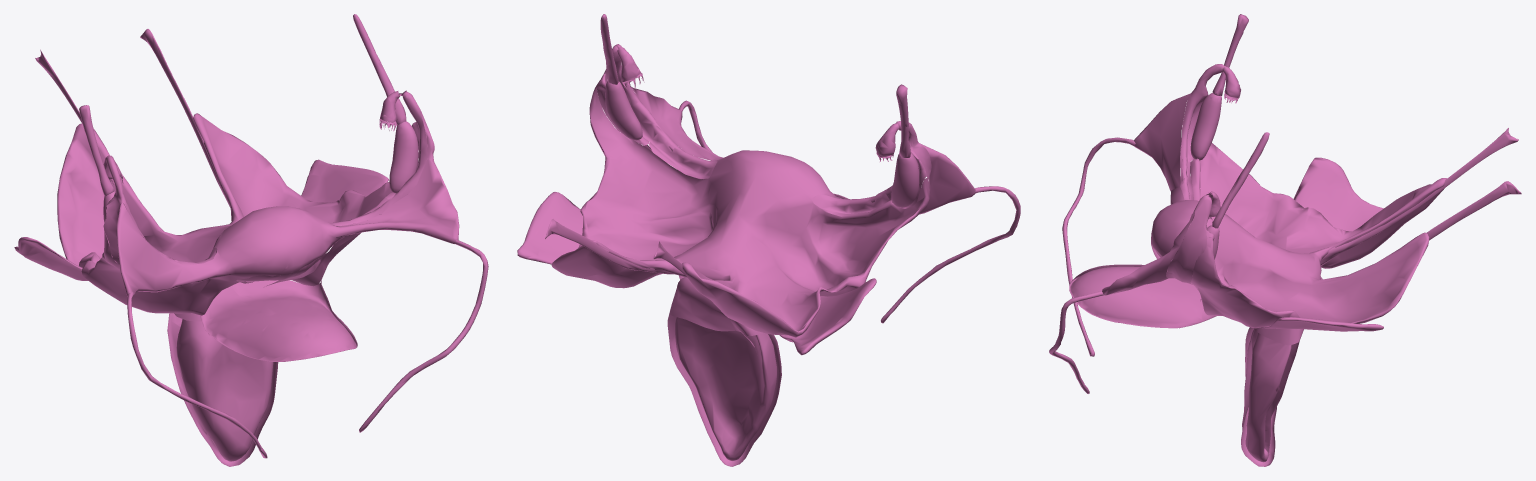
Rendered from reproductive.glb.
3 views of the same model, side by side, from view 1: azimuth 30°, elevation 25°; view 2: azimuth 150°, elevation 25°; view 3: azimuth 270°, elevation 25° (orthographic). The views are drawn at different scales.
Parts seen in each view (by area): view 1: HRA_broad_ligament, HRA_uterovesical_pouch, HRA_vagina, HRA_left_cardinal_ligament_of_uterus, HRA_mesosalpinx_L, HRA_right_round_ligament_of_uterus, HRA_left_ovary, HRA_mesosalpinx_R, HRA_right_cardinal_ligament_of_uterus, HRA_left_round_ligament_of_uterus, HRA_left_uterosacral_ligament, HRA_suspensory_ligament_of_ovary_L (+1 smaller); view 2: HRA_broad_ligament, HRA_vagina, HRA_left_cardinal_ligament_of_uterus, HRA_mesosalpinx_L, HRA_right_cardinal_ligament_of_uterus, HRA_cervicovaginal_junction, HRA_mesosalpinx_R, HRA_left_ovary, HRA_left_round_ligament_of_uterus, HRA_right_ovary, HRA_left_uterosacral_ligament, HRA_suspensory_ligament_of_ovary_R (+1 smaller); view 3: HRA_broad_ligament, HRA_uterovesical_pouch, HRA_vagina, HRA_right_cardinal_ligament_of_uterus, HRA_mesosalpinx_L, HRA_mesosalpinx_R, HRA_right_uterosacral_ligament, HRA_right_ovary, HRA_left_round_ligament_of_uterus, HRA_left_cardinal_ligament_of_uterus, HRA_left_uterosacral_ligament, HRA_suspensory_ligament_of_ovary_L (+3 smaller).
Part boxes in pixels (left/top/right/bottom): HRA_broad_ligament: left=57, top=109, right=459, bottom=315; HRA_uterovesical_pouch: left=200, top=257, right=357, bottom=361; HRA_vagina: left=167, top=313, right=278, bottom=466; HRA_left_cardinal_ligament_of_uterus: left=301, top=159, right=388, bottom=246; HRA_mesosalpinx_L: left=328, top=92, right=427, bottom=250; HRA_right_round_ligament_of_uterus: left=336, top=230, right=488, bottom=432; HRA_left_ovary: left=389, top=121, right=418, bottom=193; HRA_mesosalpinx_R: left=103, top=156, right=216, bottom=266; HRA_right_cardinal_ligament_of_uterus: left=14, top=237, right=88, bottom=280; HRA_left_round_ligament_of_uterus: left=127, top=286, right=267, bottom=458; HRA_left_uterosacral_ligament: left=140, top=29, right=230, bottom=207; HRA_suspensory_ligament_of_ovary_L: left=353, top=14, right=406, bottom=124; HRA_broad_ligament: left=551, top=64, right=975, bottom=337; HRA_vagina: left=667, top=314, right=781, bottom=466; HRA_left_cardinal_ligament_of_uterus: left=517, top=192, right=582, bottom=264; HRA_mesosalpinx_L: left=604, top=45, right=717, bottom=178; HRA_right_cardinal_ligament_of_uterus: left=779, top=278, right=876, bottom=355; HRA_cervicovaginal_junction: left=669, top=277, right=762, bottom=335; HRA_mesosalpinx_R: left=812, top=120, right=931, bottom=213; HRA_left_ovary: left=605, top=81, right=642, bottom=140; HRA_left_round_ligament_of_uterus: left=880, top=186, right=1020, bottom=323; HRA_right_ovary: left=891, top=153, right=919, bottom=207; HRA_left_uterosacral_ligament: left=545, top=219, right=673, bottom=274; HRA_suspensory_ligament_of_ovary_R: left=896, top=84, right=910, bottom=157; HRA_broad_ligament: left=1102, top=93, right=1446, bottom=328; HRA_uterovesical_pouch: left=1069, top=241, right=1216, bottom=328; HRA_vagina: left=1241, top=327, right=1299, bottom=466; HRA_right_cardinal_ligament_of_uterus: left=1293, top=157, right=1383, bottom=231; HRA_mesosalpinx_L: left=1166, top=196, right=1211, bottom=284; HRA_mesosalpinx_R: left=1180, top=64, right=1224, bottom=199; HRA_right_uterosacral_ligament: left=1320, top=128, right=1518, bottom=265; HRA_right_ovary: left=1190, top=93, right=1221, bottom=160; HRA_left_round_ligament_of_uterus: left=1062, top=137, right=1150, bottom=356; HRA_left_cardinal_ligament_of_uterus: left=1261, top=317, right=1383, bottom=331; HRA_left_uterosacral_ligament: left=1374, top=181, right=1521, bottom=263; HRA_suspensory_ligament_of_ovary_L: left=1212, top=132, right=1269, bottom=228.
Bounding box in the file's own units: 0.1387 × 0.1543 × 0.169.
